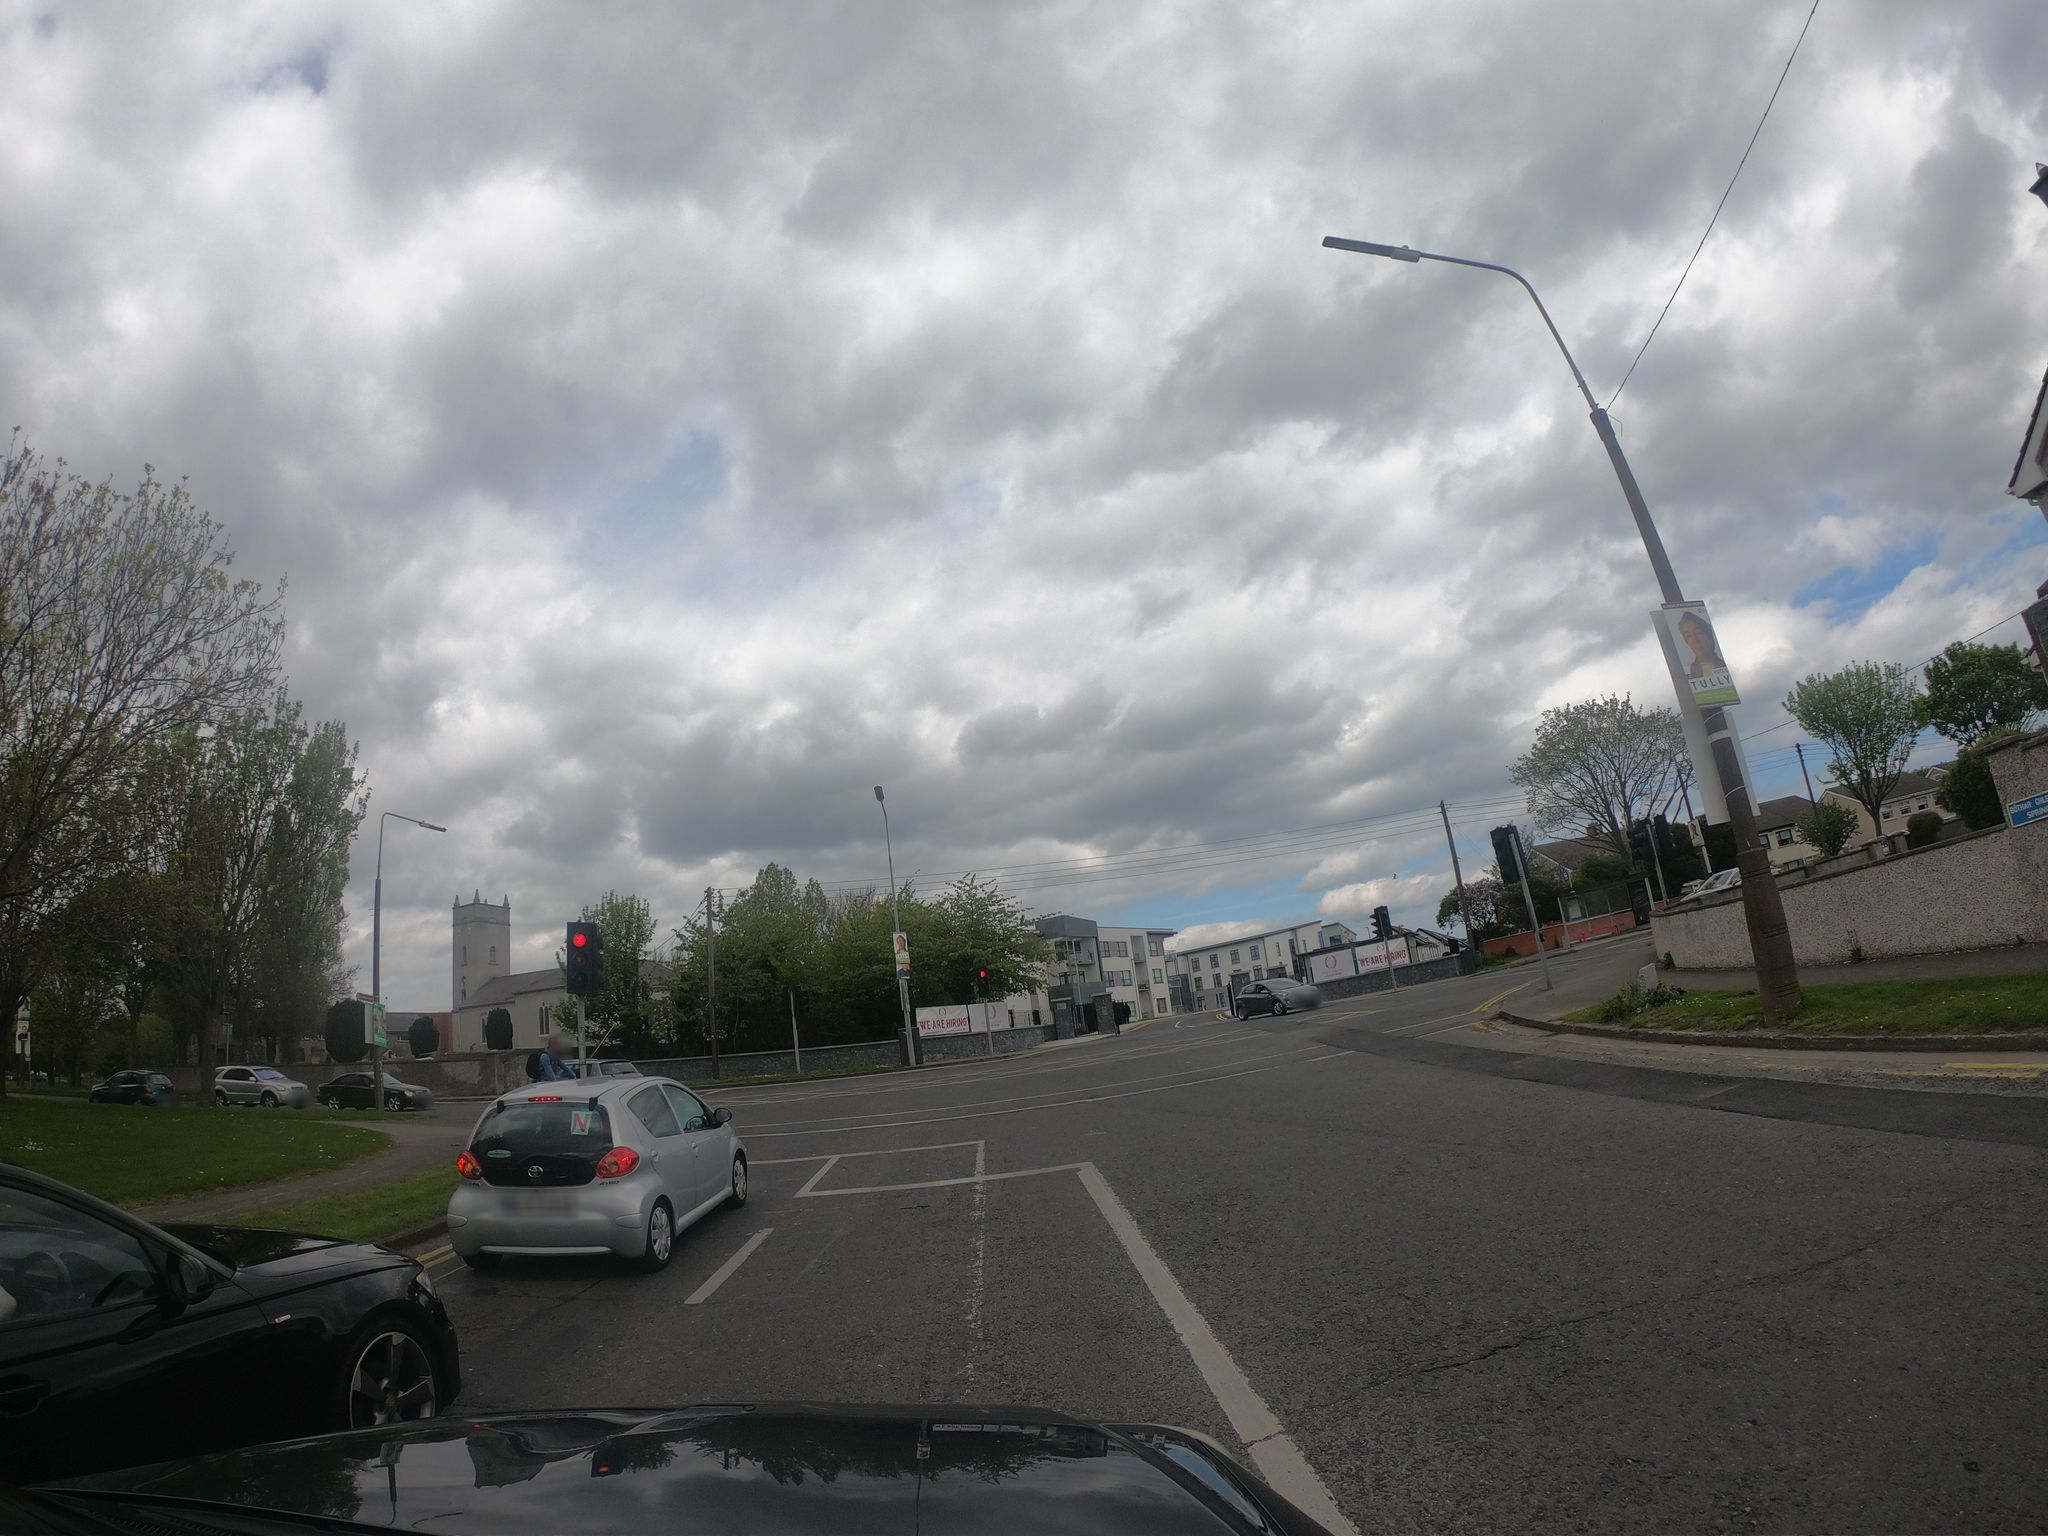vinyl banner: (898, 991, 974, 1046), (1353, 931, 1421, 975)
